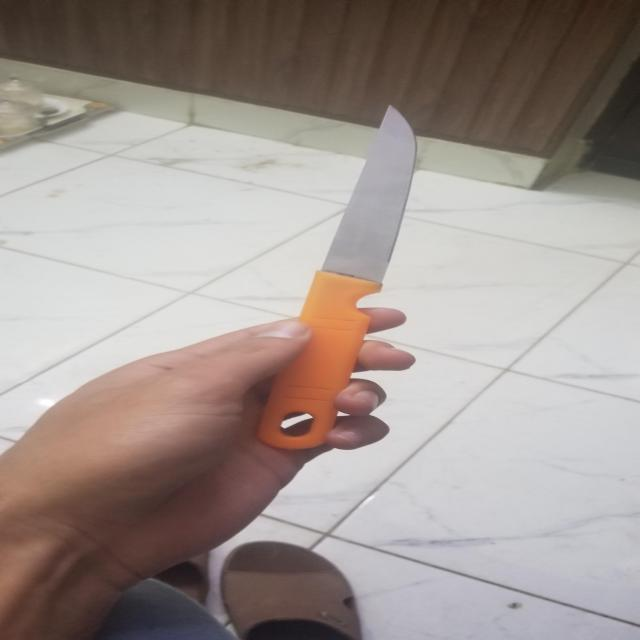Knife: (249, 95, 421, 459)
